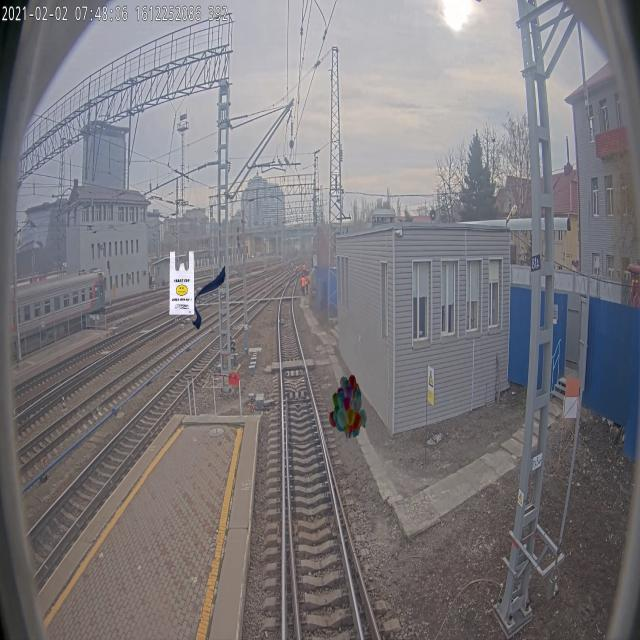balloon: (329, 374, 366, 438)
floating object: (191, 266, 225, 330)
plastic bag: (169, 250, 195, 314)
